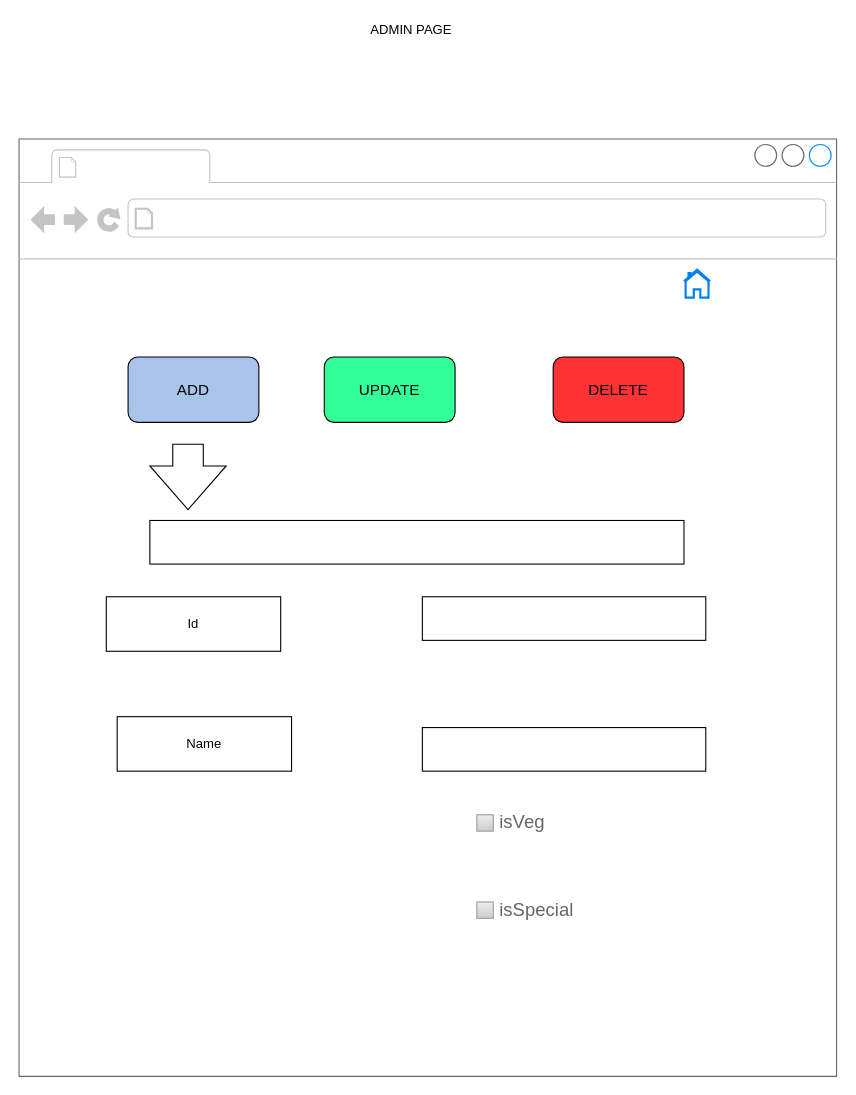
The diagram is 856 pixels wide and 1095 high, and some of its shapes have lost their labels. The shapes that lost their labels are listed below. From the top down, each one's box as (x1, y1, x2, y2) in pixels, then its label:
(83, 151, 204, 180): Admin
(160, 203, 433, 233): https://www.BakedInHeaven/Admin
(149, 519, 684, 564): ADD ITEM
